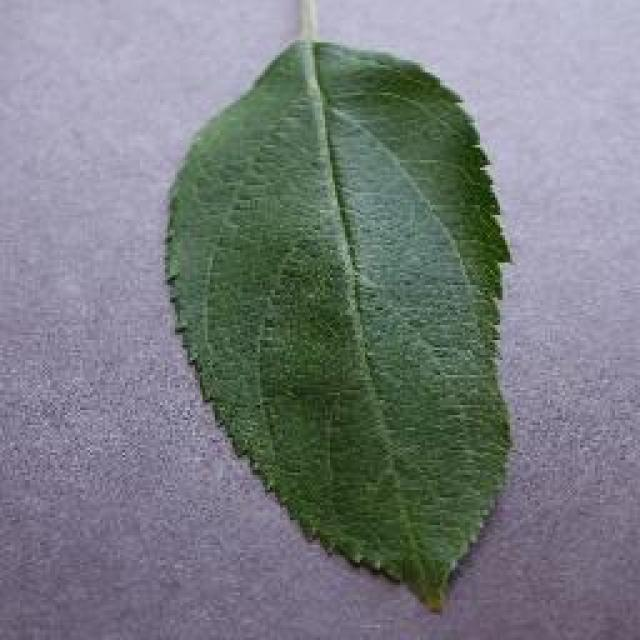apple healthy: (160, 25, 518, 613)
